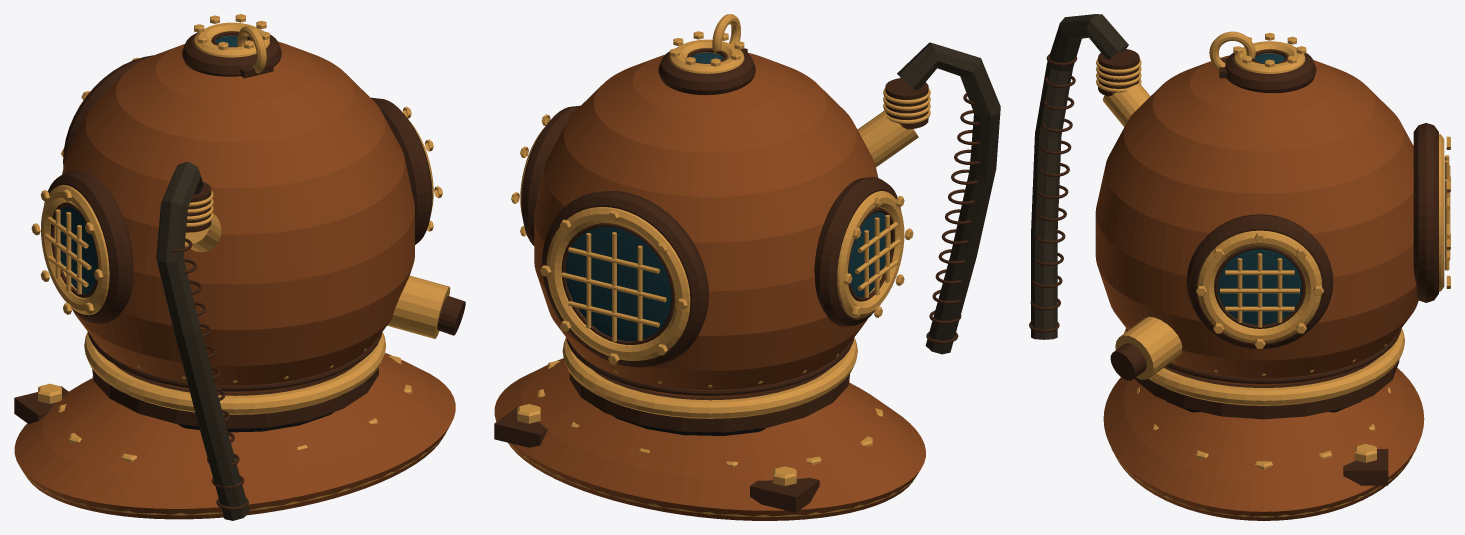
Rendered from CopperDivingHelmet.obj.
3 renders of one model, left to right at view 1: azimuth 30°, elevation 25°; view 2: azimuth 150°, elevation 25°; view 3: azimuth 270°, elevation 25°, orthographic. The views are drawn at different scales.
Visible parts, largest first — view 1: Continuous_copper_shell, Shaped_shoulder_plate, Cast_copper_socket, Short_air_supply_hose, Bright_neck_locking_ring, Polished_retaining_bezel, Heavy_neck_locking_collar, Exhaust_valve_housing, Rolled_shell_seam, Dark_recessed_glass, Air_hose_rib, Protective_vertical_grille (+9 smaller); view 2: Continuous_copper_shell, Shaped_shoulder_plate, Cast_copper_socket, Polished_retaining_bezel, Short_air_supply_hose, Dark_recessed_glass, Bright_neck_locking_ring, Heavy_neck_locking_collar, Breastplate_weighted_fastening, Protective_vertical_grille, Protective_horizontal_grille, Inner_glass_gasket (+8 smaller); view 3: Continuous_copper_shell, Shaped_shoulder_plate, Cast_copper_socket, Short_air_supply_hose, Polished_retaining_bezel, Bright_neck_locking_ring, Heavy_neck_locking_collar, Dark_recessed_glass, Exhaust_valve_housing, Air_hose_rib, Protective_vertical_grille, Protective_horizontal_grille (+9 smaller).
Part boxes in pixels (x1,y1,x2,y2): Continuous_copper_shell: (62, 41, 414, 393); Shaped_shoulder_plate: (14, 353, 455, 519); Cast_copper_socket: (44, 32, 432, 323); Short_air_supply_hose: (156, 161, 249, 520); Bright_neck_locking_ring: (84, 332, 385, 414); Polished_retaining_bezel: (41, 22, 433, 315); Heavy_neck_locking_collar: (92, 365, 378, 428); Exhaust_valve_housing: (387, 275, 450, 338); Rolled_shell_seam: (88, 332, 382, 391); Dark_recessed_glass: (60, 36, 247, 293); Air_hose_rib: (171, 238, 248, 510); Protective_vertical_grille: (55, 209, 81, 294); Continuous_copper_shell: (534, 52, 878, 397); Shaped_shoulder_plate: (494, 358, 925, 520); Cast_copper_socket: (521, 49, 900, 367); Polished_retaining_bezel: (520, 39, 904, 360); Short_air_supply_hose: (897, 42, 1000, 354); Dark_recessed_glass: (565, 52, 885, 341); Bright_neck_locking_ring: (562, 337, 857, 418); Heavy_neck_locking_collar: (569, 370, 849, 432); Breastplate_weighted_fastening: (494, 406, 819, 512); Protective_vertical_grille: (586, 215, 889, 341); Protective_horizontal_grille: (561, 222, 900, 327); Inner_glass_gasket: (561, 48, 894, 344); Continuous_copper_shell: (1095, 55, 1418, 385); Shaped_shoulder_plate: (1103, 368, 1424, 520); Cast_copper_socket: (1186, 53, 1438, 349); Short_air_supply_hose: (1031, 14, 1128, 339); Polished_retaining_bezel: (1197, 41, 1444, 343); Bright_neck_locking_ring: (1124, 328, 1404, 405); Heavy_neck_locking_collar: (1135, 359, 1399, 419); Dark_recessed_glass: (1218, 53, 1301, 324); Exhaust_valve_housing: (1115, 317, 1182, 379); Air_hose_rib: (1029, 54, 1077, 332); Protective_vertical_grille: (1237, 155, 1449, 327); Protective_horizontal_grille: (1220, 165, 1450, 311).
Size of the model in its own units: 1.12 by 1.16 by 1.08.
